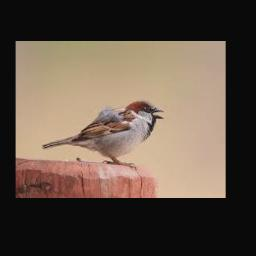Sparrow: (43, 99, 165, 169)
